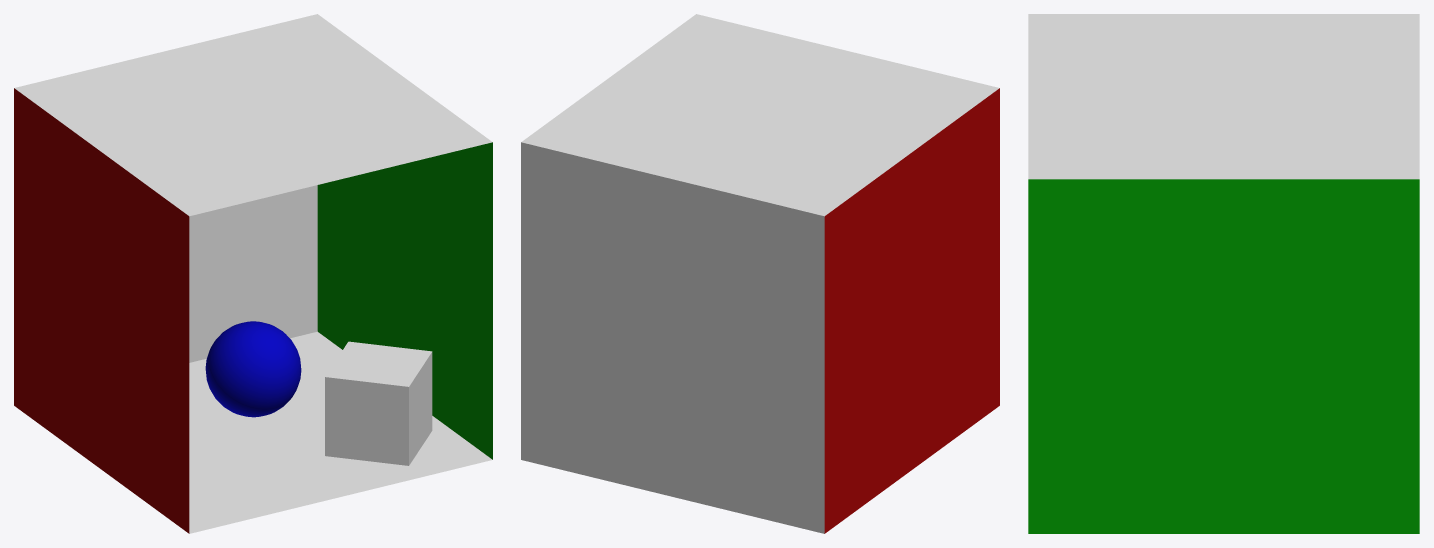
File: cornellbox_plasticball.glb
3 views of the same model, side by side, from view 1: azimuth 30°, elevation 25°; view 2: azimuth 150°, elevation 25°; view 3: azimuth 270°, elevation 25° (orthographic). The views are drawn at different scales.
Visible parts, largest first — view 1: Red Wall, Ceiling, Green Wall, Floor, Back Wall, Small Cube, Sphere; view 2: Back Wall, Red Wall, Ceiling; view 3: Green Wall, Ceiling.
Part boxes in pixels (left/top/right/bottom): Red Wall: left=14, top=88, right=189, bottom=533; Ceiling: left=14, top=14, right=492, bottom=216; Green Wall: left=317, top=142, right=492, bottom=459; Floor: left=189, top=331, right=492, bottom=533; Back Wall: left=189, top=185, right=317, bottom=362; Small Cube: left=325, top=341, right=432, bottom=465; Sphere: left=205, top=321, right=301, bottom=417; Back Wall: left=521, top=142, right=824, bottom=533; Red Wall: left=824, top=88, right=999, bottom=533; Ceiling: left=521, top=14, right=999, bottom=216; Green Wall: left=1028, top=179, right=1419, bottom=533; Ceiling: left=1028, top=14, right=1419, bottom=179.
Bounding box in the file's own units: 10 × 10 × 10.
